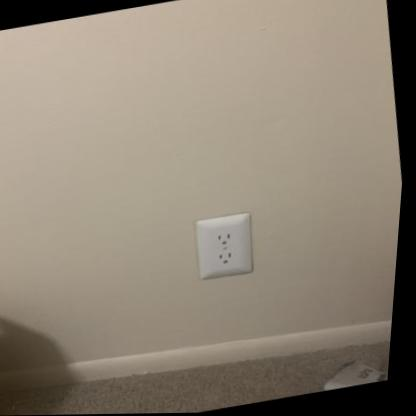OUTLET: (189, 211, 261, 280)
